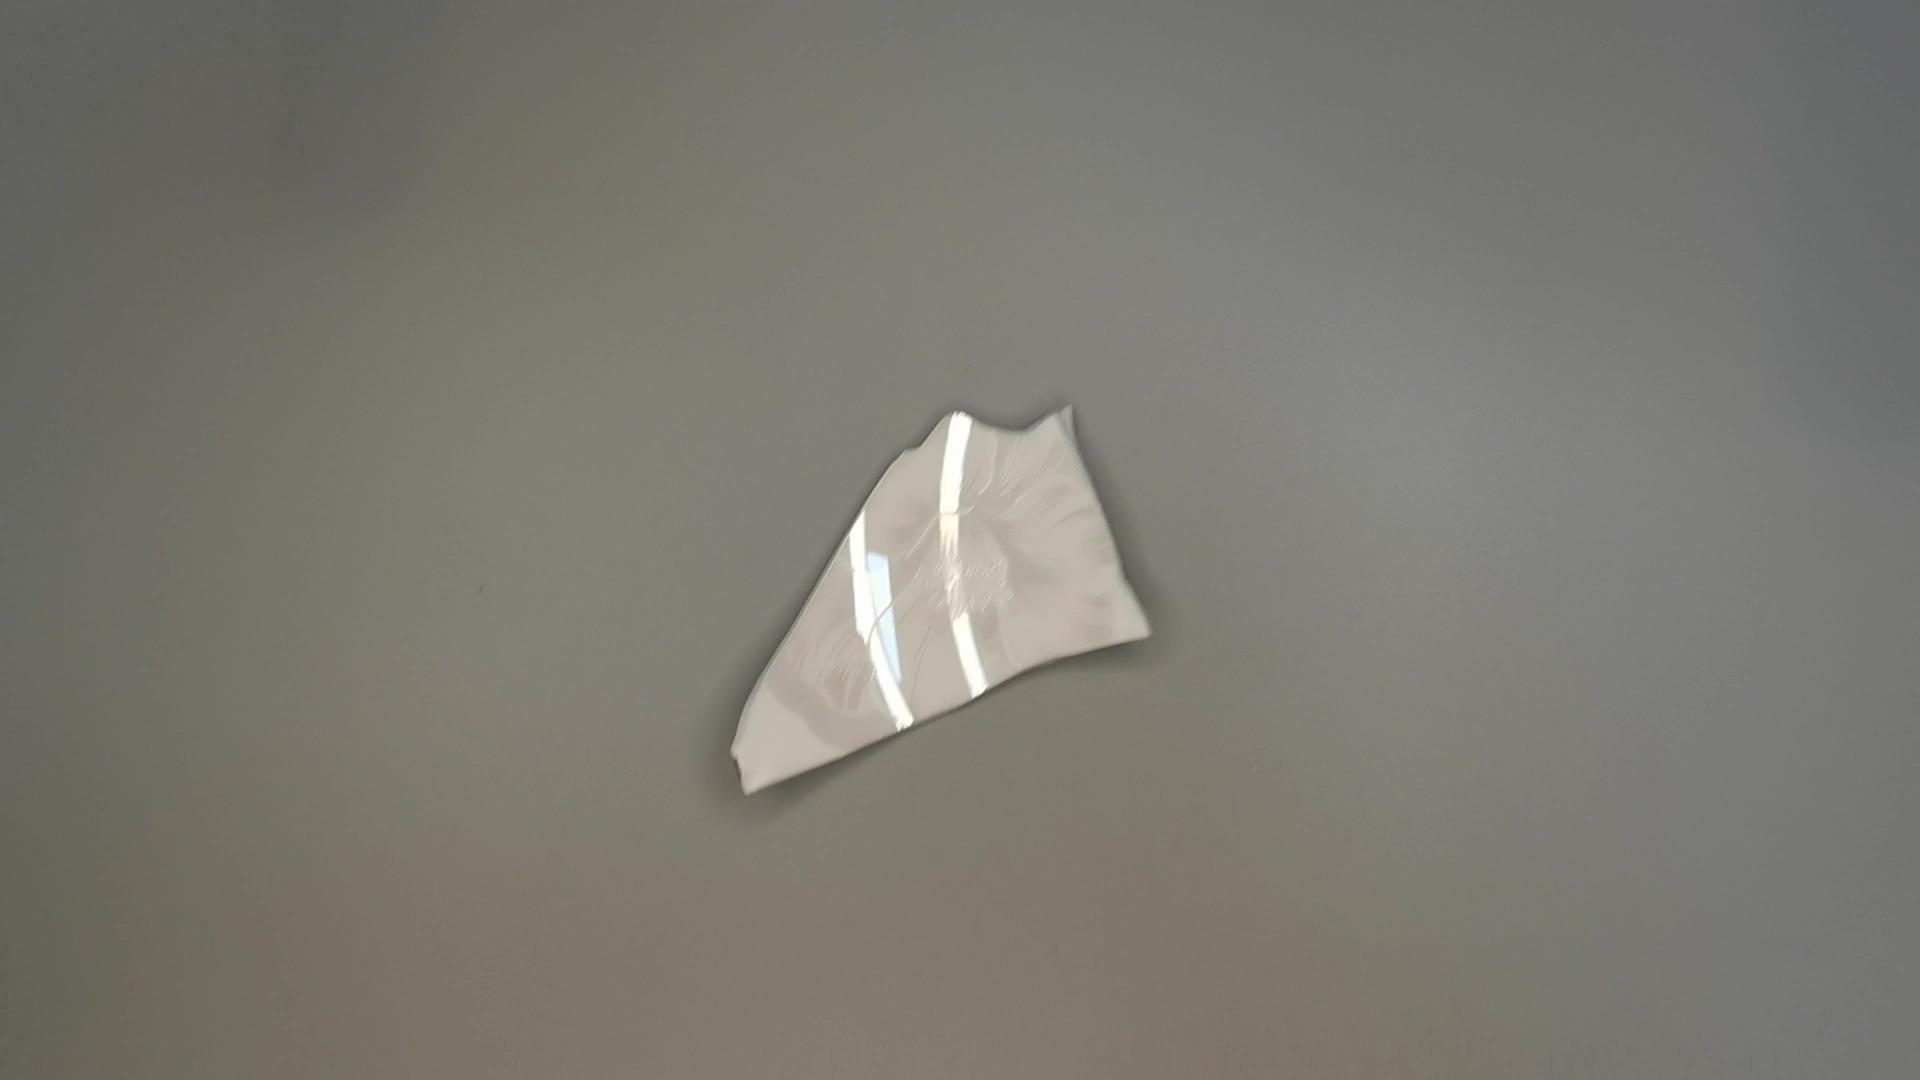ceramic: (723, 402, 1155, 804)
